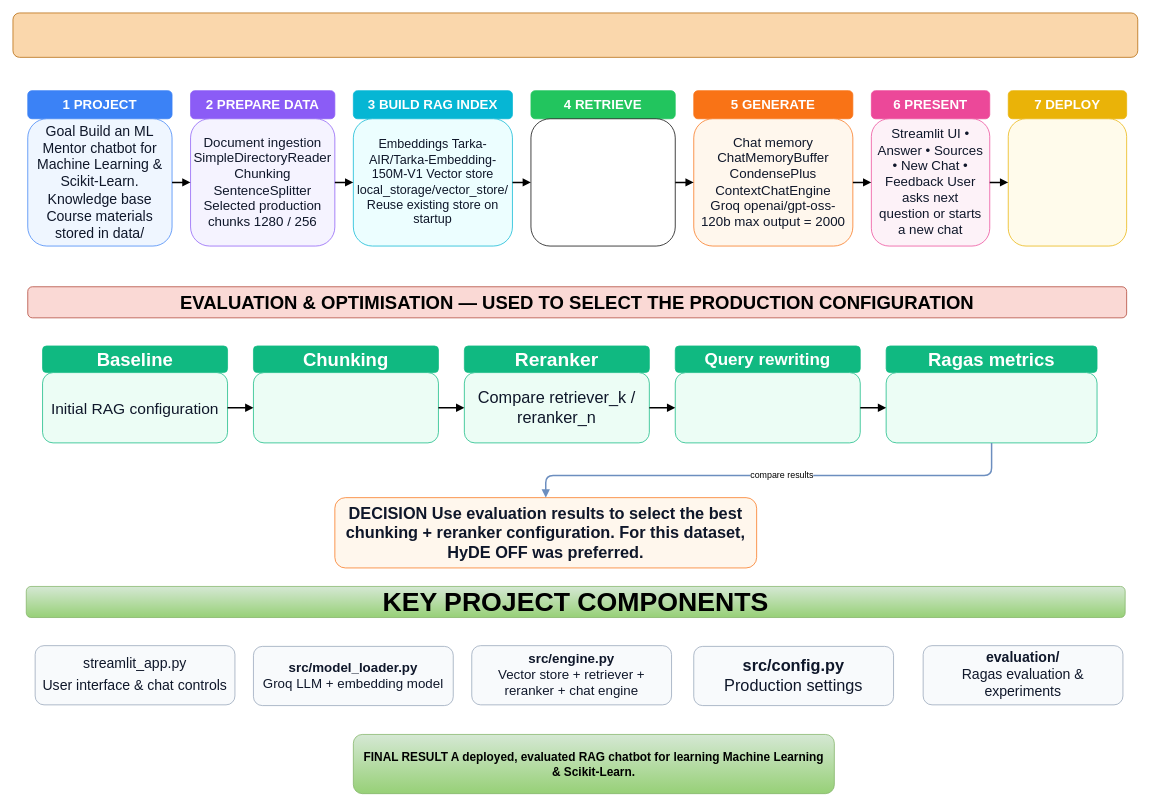
This 1151x807 diagram has some shape labels left out. Each missing label, with the centre of its shape:
"Compare 512/50 • 768/115 1024/200 • 1280/256" belongs at point 345,407.
"Faithfulness, Answer Correctness, Context Precision, Context Recall" belongs at point 991,407.
"GENERATIVE AI RAG — SCikit-Learn / ML MENTOR CHATBOT" belongs at point 575,34.
"HyDE OFF vs HyDE ON" belongs at point 767,407.
"Local test VS Code + Conda GitHub Push final code Streamlit Cloud Production app" belongs at point 1067,182.
"Retriever similarity_top_k = 10 Reranker top_n = 2 Most relevant context → LLM" belongs at point 602,182.
